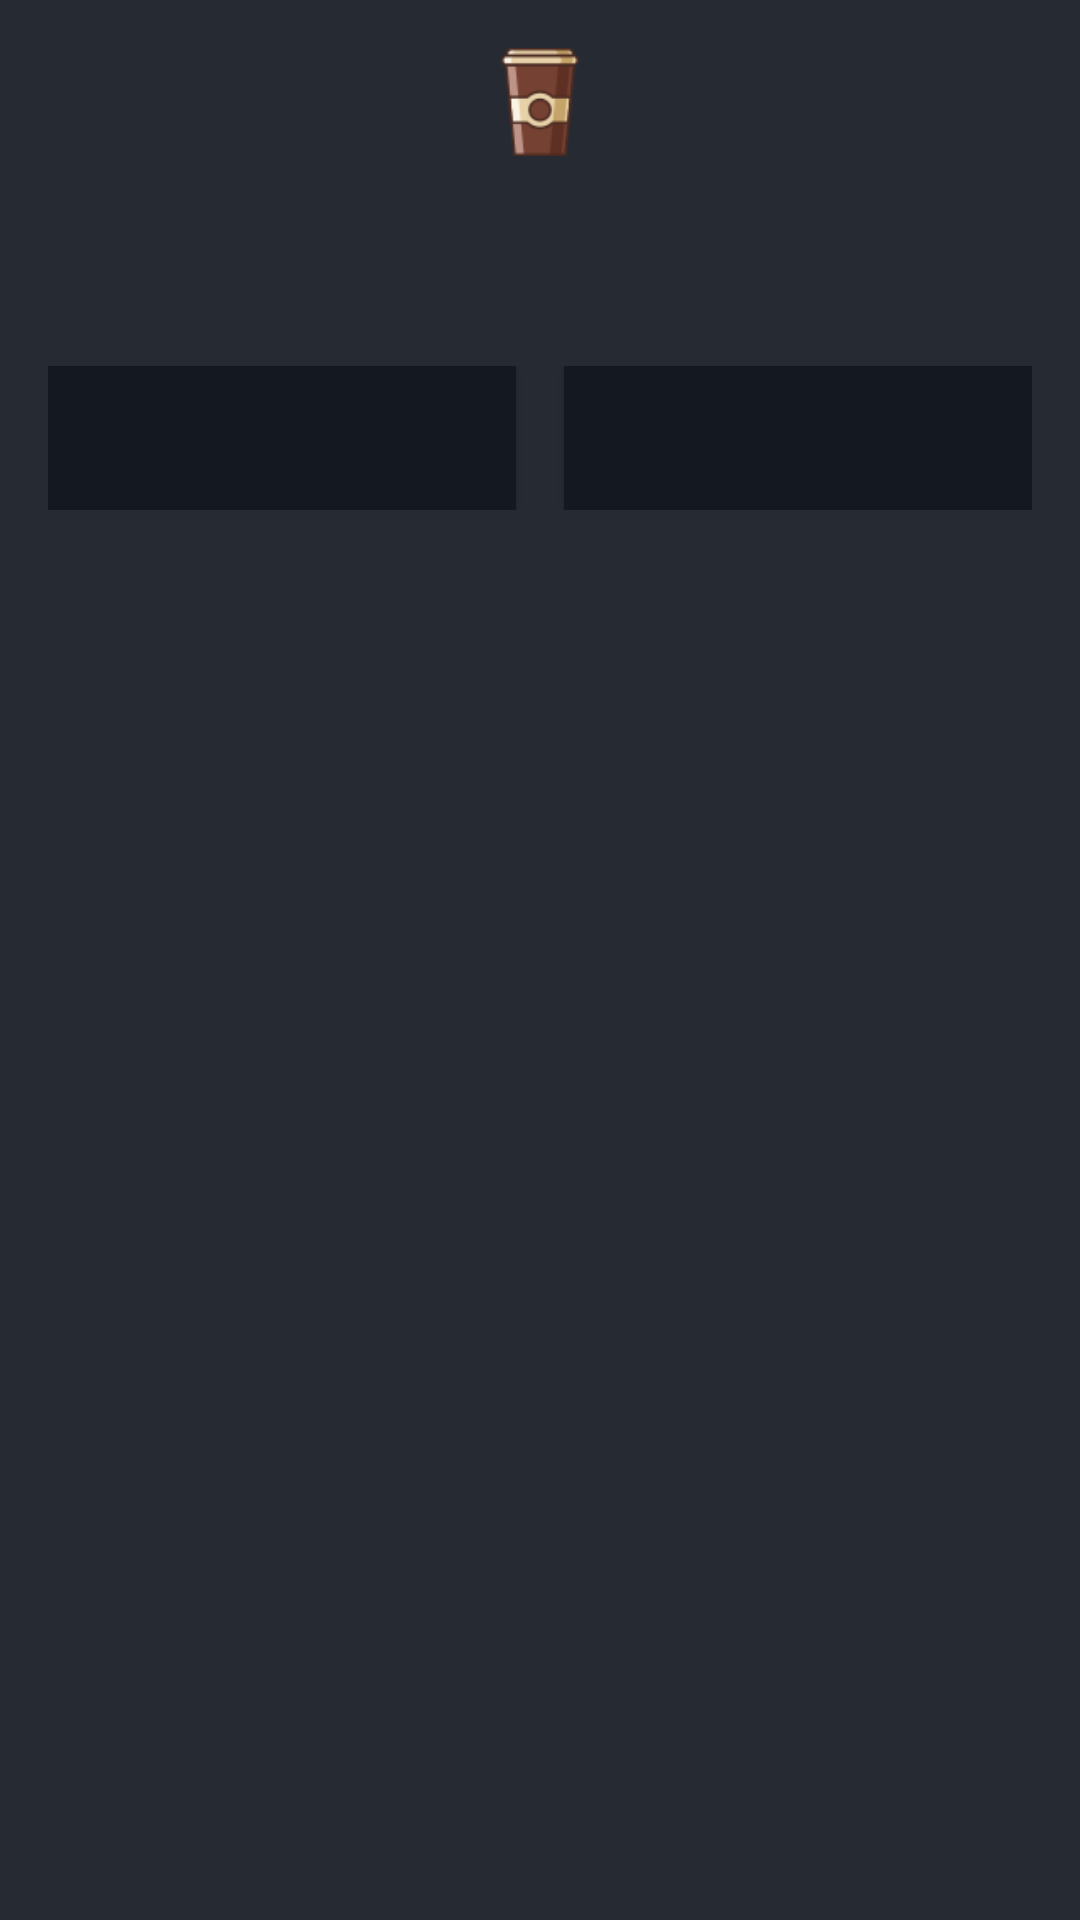

Point at icon controls on the screen. Image size 1080 × 1920, points as (x=x, y=y).
coffee: (x=539, y=102)
